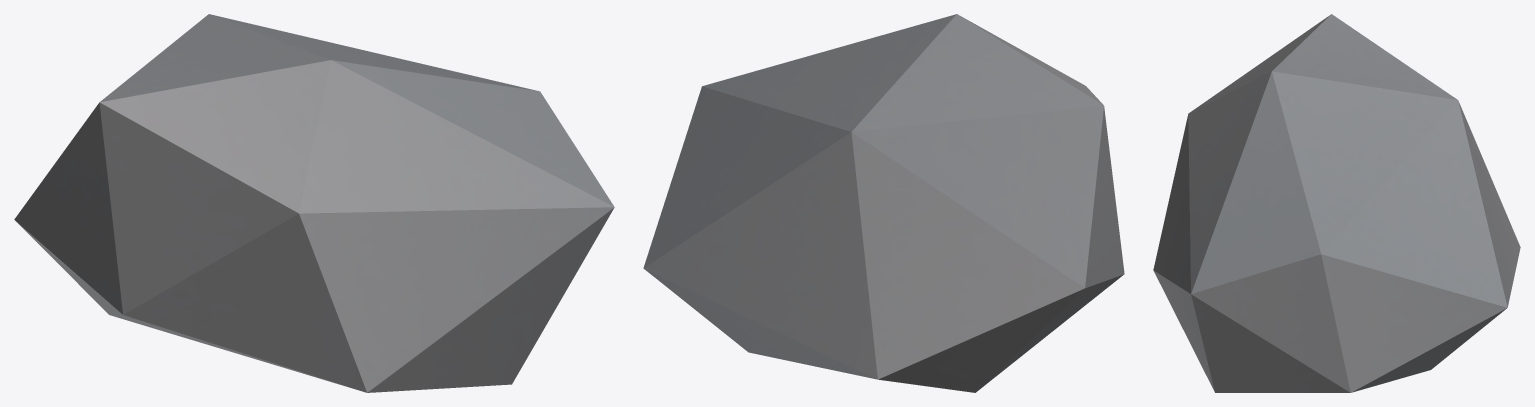
The model's file is Rock_Med_1.fbx.
The picture shows the model from 3 angles, left to right: view 1: azimuth 30°, elevation 25°; view 2: azimuth 150°, elevation 25°; view 3: azimuth 270°, elevation 25°; orthographic projection. The views are drawn at different scales.
Visible parts, largest first — view 1: Group48818; view 2: Group48818; view 3: Group48818.
Boxes of the visible parts, x1,y1,x2,y2 form: Group48818: (14,14,614,392); Group48818: (643,14,1124,392); Group48818: (1153,14,1520,392).
Size of the model in its own units: 283 by 185 by 233.
